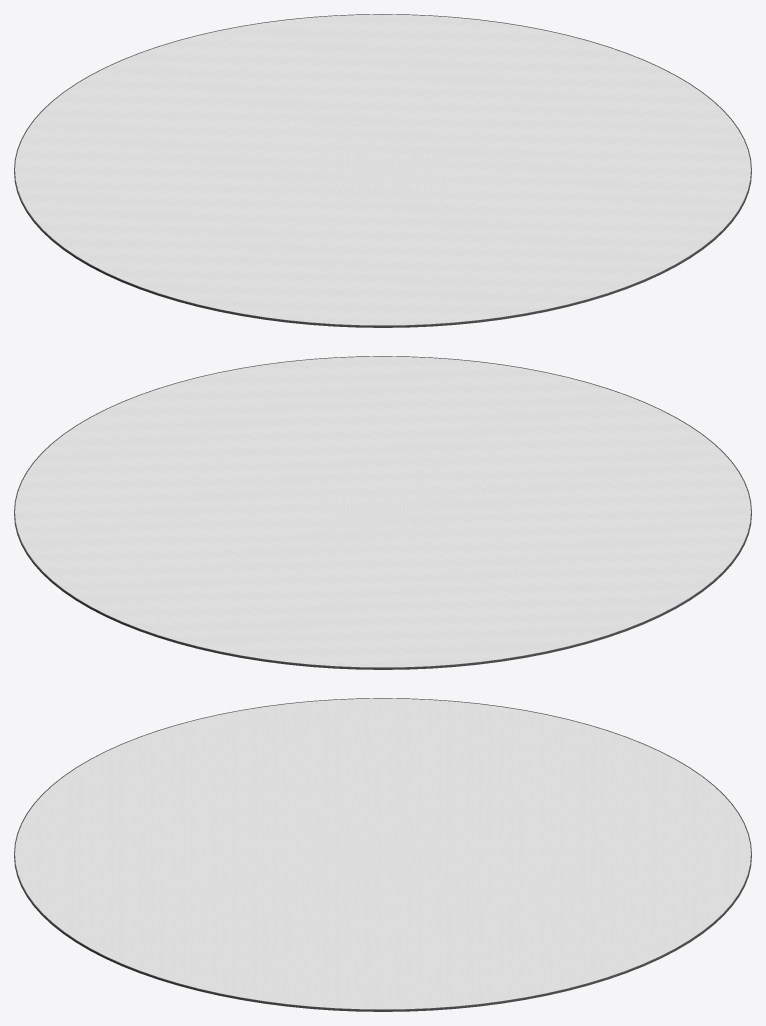
The model's file is MOb_Rug_001_36x36.fbx.
3 renders of one model, top to bottom at view 1: azimuth 30°, elevation 25°; view 2: azimuth 150°, elevation 25°; view 3: azimuth 270°, elevation 25°, orthographic.
Visible parts, largest first — view 1: MOb_Rug_001_36x36; view 2: MOb_Rug_001_36x36; view 3: MOb_Rug_001_36x36.
Part boxes in pixels (left/top/right/bottom): MOb_Rug_001_36x36: left=14, top=14, right=751, bottom=327; MOb_Rug_001_36x36: left=14, top=356, right=751, bottom=669; MOb_Rug_001_36x36: left=14, top=698, right=751, bottom=1011.
Size of the model in its own units: 36 by 0.11 by 36.
